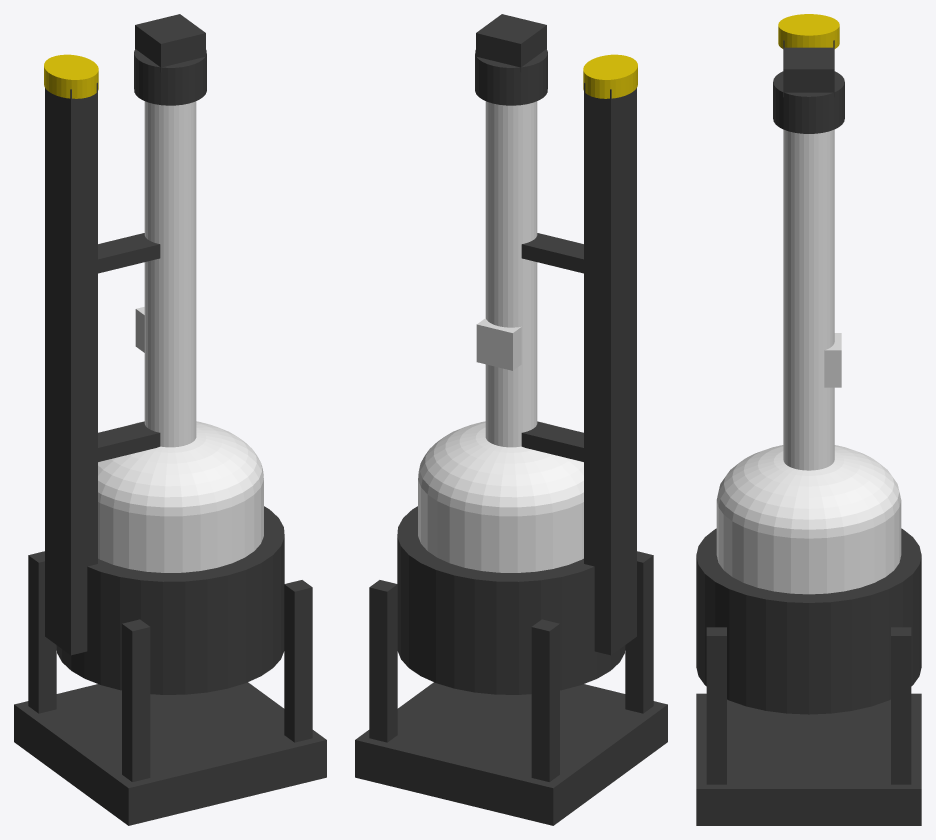
File: furnace.glb
3 views of the same model, side by side, from view 1: azimuth 30°, elevation 25°; view 2: azimuth 150°, elevation 25°; view 3: azimuth 270°, elevation 25° (orthographic).
Visible parts, largest first — view 1: Lift_Rail, Base_Platform, Outer_Chamber, Puller_Tube, Chamber_Dome, Inner_Chamber_Body, Frame_Pillar_1, Frame_Pillar_0, Frame_Pillar_2, Top_Cap, Top_Motor, Rail_Yellow_Cap (+2 smaller); view 2: Lift_Rail, Base_Platform, Outer_Chamber, Puller_Tube, Chamber_Dome, Inner_Chamber_Body, Frame_Pillar_3, Frame_Pillar_2, Frame_Pillar_0, Top_Cap, Top_Motor, Rail_Yellow_Cap (+3 smaller); view 3: Outer_Chamber, Base_Platform, Puller_Tube, Chamber_Dome, Inner_Chamber_Body, Frame_Pillar_1, Frame_Pillar_3, Top_Cap, Top_Motor, Rail_Yellow_Cap, Observation_Window.
Boxes of the visible parts, x1=… form: Lift_Rail: x1=45, y1=82, x2=97, y2=655; Base_Platform: x1=14, y1=682, x2=326, y2=825; Outer_Chamber: x1=56, y1=506, x2=284, y2=694; Puller_Tube: x1=144, y1=101, x2=196, y2=447; Chamber_Dome: x1=98, y1=421, x2=263, y2=516; Inner_Chamber_Body: x1=98, y1=480, x2=263, y2=572; Frame_Pillar_1: x1=284, y1=580, x2=312, y2=742; Frame_Pillar_0: x1=122, y1=619, x2=150, y2=781; Frame_Pillar_2: x1=28, y1=551, x2=56, y2=713; Top_Cap: x1=134, y1=49, x2=206, y2=105; Top_Motor: x1=135, y1=14, x2=205, y2=71; Rail_Yellow_Cap: x1=44, y1=54, x2=98, y2=98; Lift_Rail: x1=584, y1=82, x2=636, y2=655; Base_Platform: x1=355, y1=682, x2=667, y2=825; Outer_Chamber: x1=397, y1=506, x2=625, y2=694; Puller_Tube: x1=485, y1=101, x2=537, y2=447; Chamber_Dome: x1=418, y1=421, x2=583, y2=516; Inner_Chamber_Body: x1=418, y1=480, x2=583, y2=572; Frame_Pillar_3: x1=369, y1=580, x2=397, y2=742; Frame_Pillar_2: x1=531, y1=619, x2=559, y2=781; Frame_Pillar_0: x1=625, y1=551, x2=653, y2=713; Top_Cap: x1=475, y1=49, x2=547, y2=105; Top_Motor: x1=476, y1=14, x2=546, y2=71; Rail_Yellow_Cap: x1=583, y1=54, x2=637, y2=98; Outer_Chamber: x1=696, y1=528, x2=921, y2=714; Base_Platform: x1=696, y1=693, x2=921, y2=825; Puller_Tube: x1=783, y1=129, x2=834, y2=470; Chamber_Dome: x1=716, y1=445, x2=901, y2=538; Inner_Chamber_Body: x1=716, y1=500, x2=901, y2=594; Frame_Pillar_1: x1=706, y1=627, x2=726, y2=784; Frame_Pillar_3: x1=891, y1=627, x2=911, y2=784; Top_Cap: x1=773, y1=71, x2=844, y2=133; Top_Motor: x1=783, y1=47, x2=834, y2=97; Rail_Yellow_Cap: x1=778, y1=14, x2=839, y2=48; Observation_Window: x1=824, y1=333, x2=841, y2=387.
Bounding box in the file's own units: 2.45 × 7.75 × 2.2.
